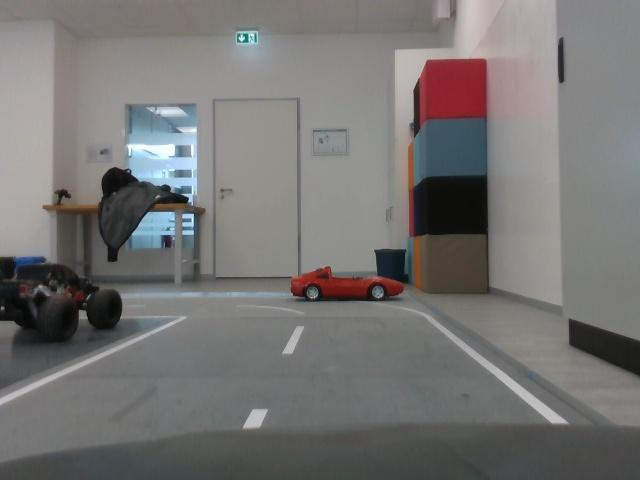car: (1, 264, 131, 343), (283, 268, 416, 305)
